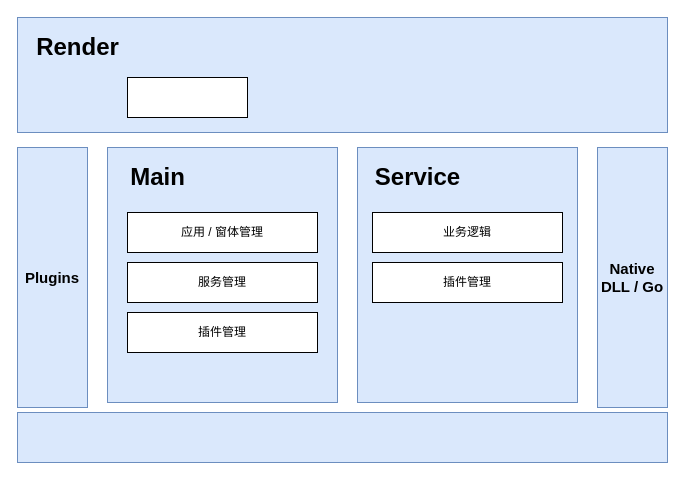
The diagram is 685 pixels wide and 480 high, and some of its shapes have lost their labels. Here are the shapes that lost their labels. From the top down, the centre of each, then its label:
pixel 187 97: React
pixel 342 437: Electron
